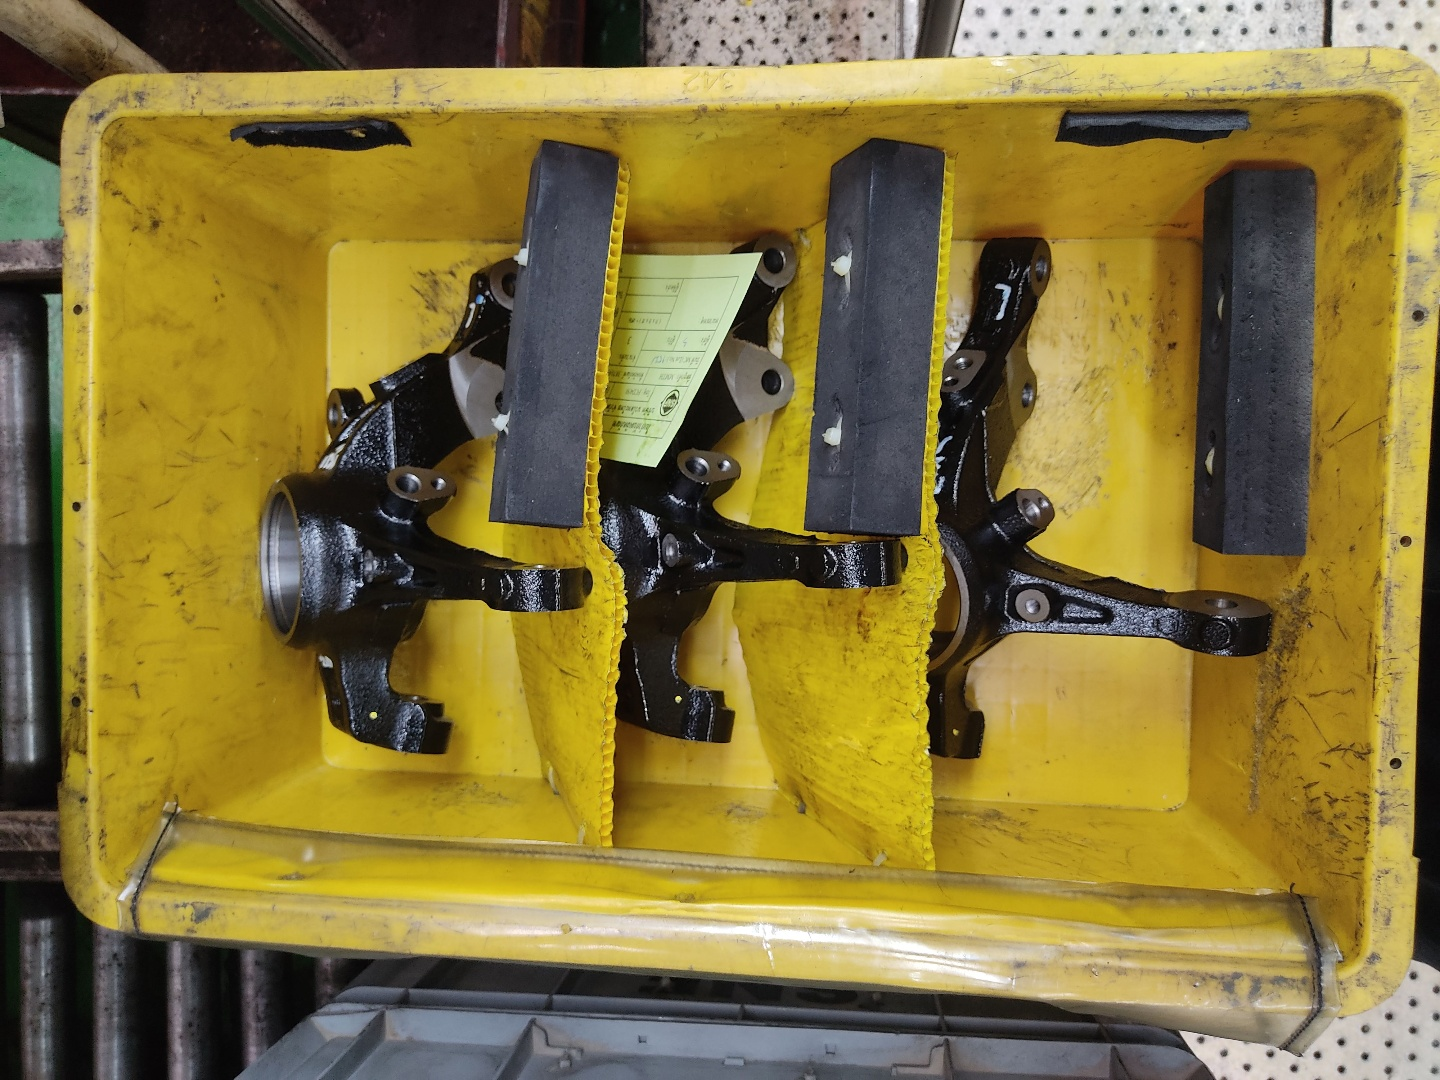abs-lh: (918, 220, 1282, 770), (249, 235, 603, 763), (600, 214, 910, 756)
